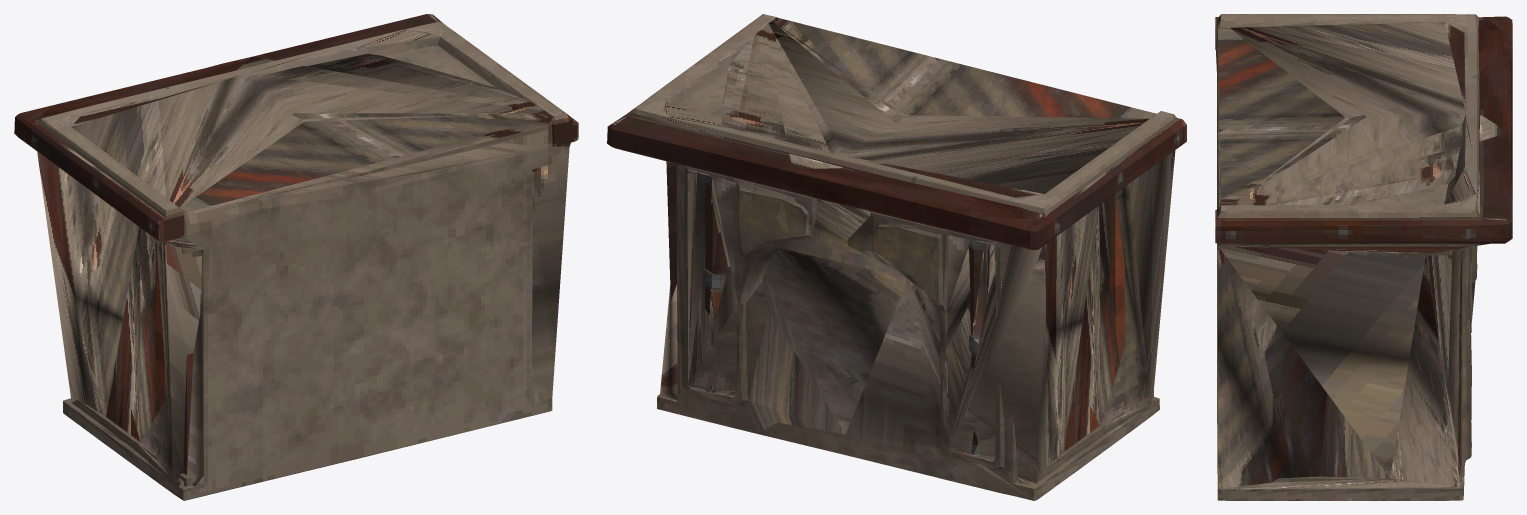
Rendered from item_halloween_fireplace.glb.
3 renders of one model, left to right at view 1: azimuth 30°, elevation 25°; view 2: azimuth 150°, elevation 25°; view 3: azimuth 270°, elevation 25°, orthographic. The views are drawn at different scales.
Parts seen in each view (by area): view 1: fireplace; view 2: fireplace; view 3: fireplace.
Boxes of the visible parts, box(x1,y1,x2,y2) form: fireplace: box(14, 14, 578, 500); fireplace: box(607, 14, 1186, 500); fireplace: box(1215, 14, 1512, 500).
Size of the model in its own units: 1.3 by 0.8726 by 0.7911.
1 material, 1 textured.
